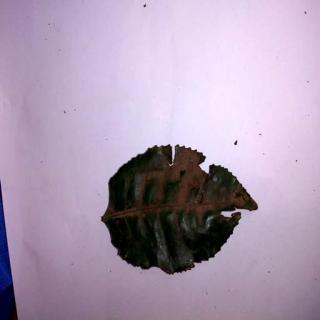Anthracnose: (102, 145, 260, 276)
